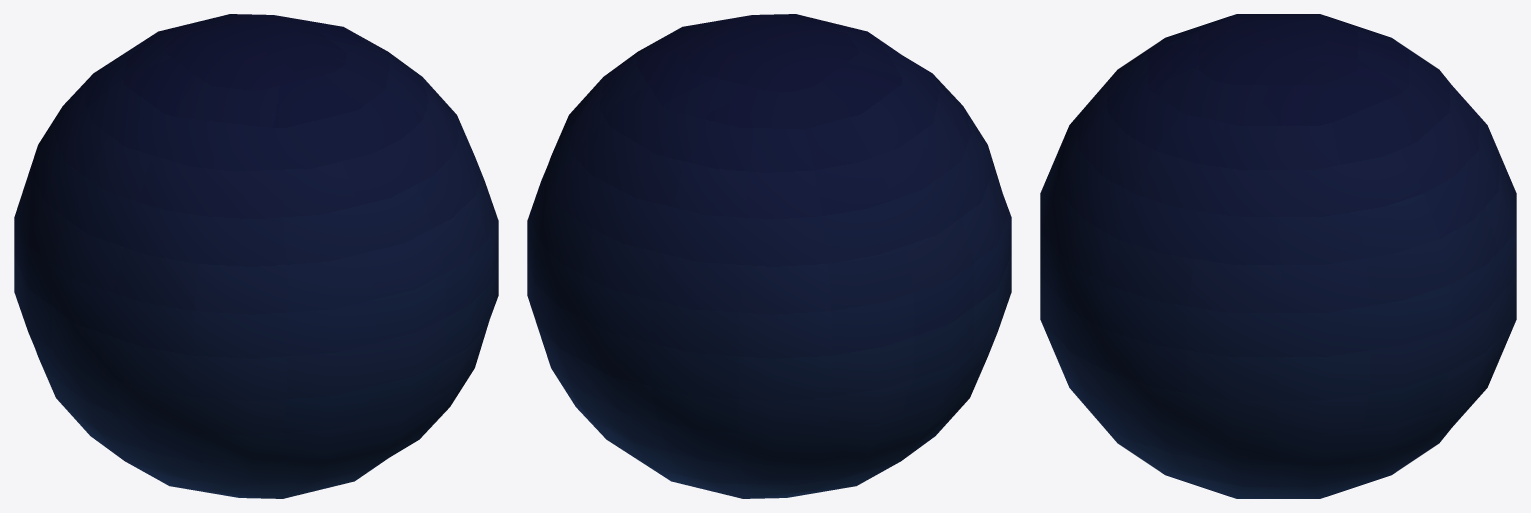
The model's file is Skybox_Night.fbx.
The picture shows the model from 3 angles, left to right: view 1: azimuth 30°, elevation 25°; view 2: azimuth 150°, elevation 25°; view 3: azimuth 270°, elevation 25°; orthographic projection.
Parts seen in each view (by area): view 1: Skybox_Night; view 2: Skybox_Night; view 3: Skybox_Night.
Part boxes in pixels (x1,y1,x2,y2): Skybox_Night: (14, 14, 498, 498); Skybox_Night: (527, 14, 1011, 498); Skybox_Night: (1040, 14, 1516, 498).
Size of the model in its own units: 30902 by 30902 by 30902.
Materials: 2 (2 with a texture image).
